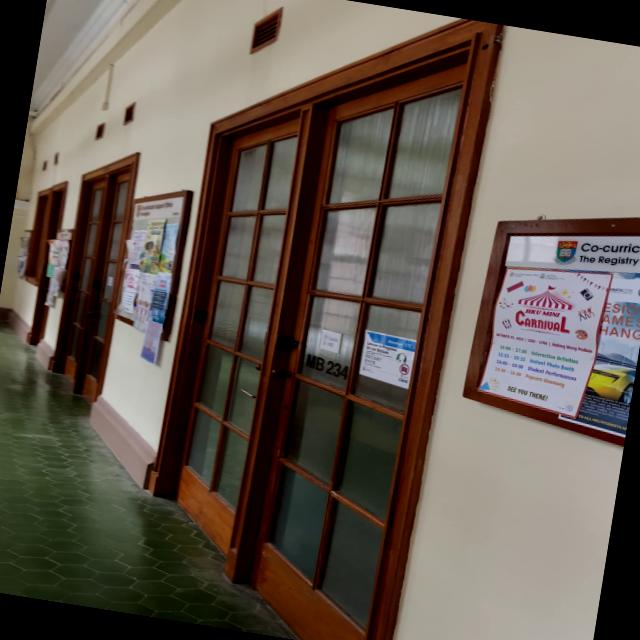room234Window: (300, 350, 353, 382)
